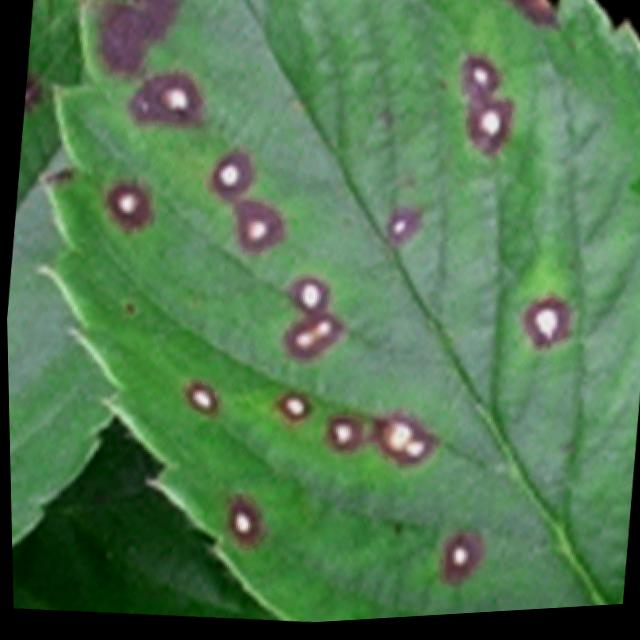Leaf Spot: (29, 0, 640, 626), (5, 0, 116, 548)
